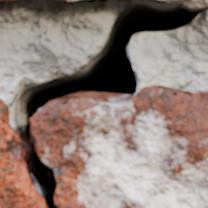brick: (160, 0, 207, 6)
broken_brick: (33, 84, 207, 207), (0, 97, 44, 207)
crack: (2, 0, 205, 207)
